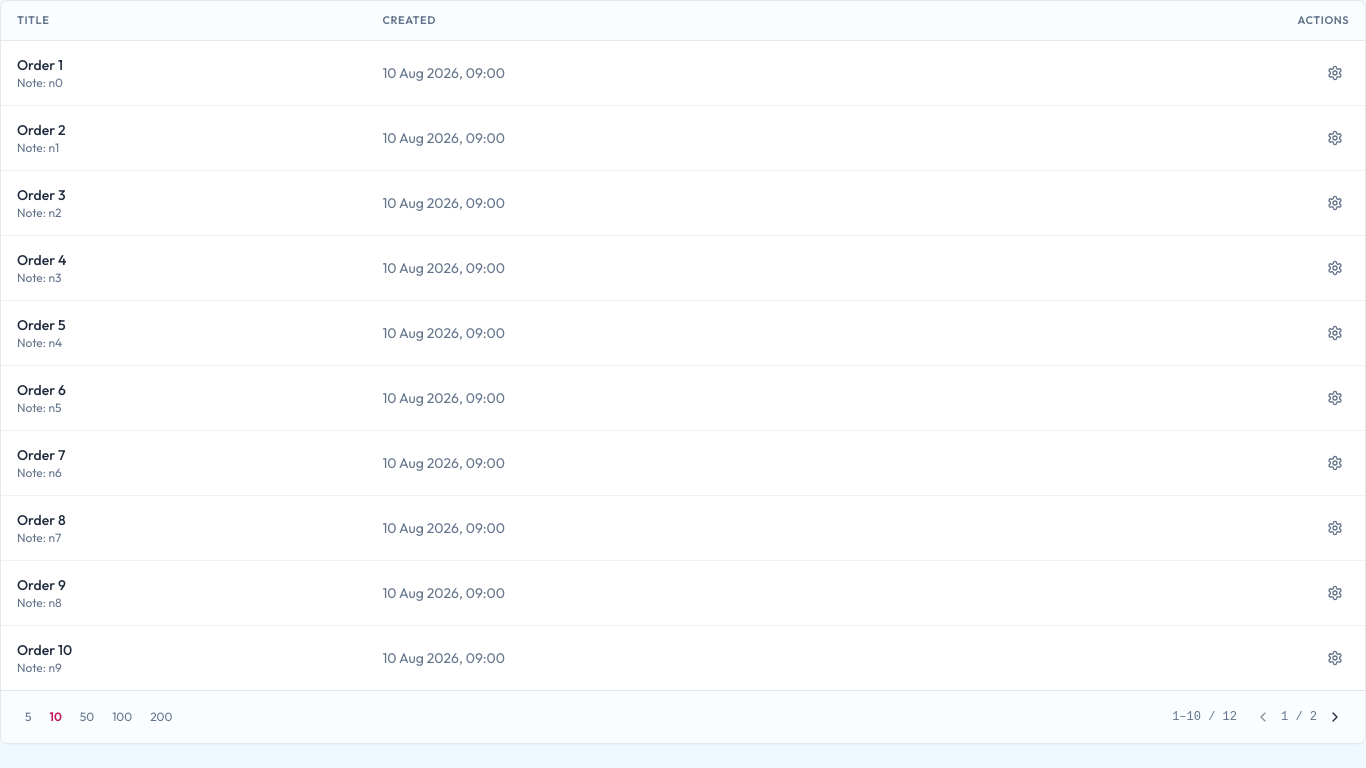
RecordList › renders compact rows with title, muted summary and pagination
The image size is (1366, 768).
Expected: the text "Order 1" is shown, 17,56 -> 63,74
Expected: the text "Note: n0" is shown, 17,75 -> 63,90
What coordinates should you click on to do the following:
click the button named "Next"
I would click on:
 (1335, 717)
Its box is 1321,703 -> 1349,731.
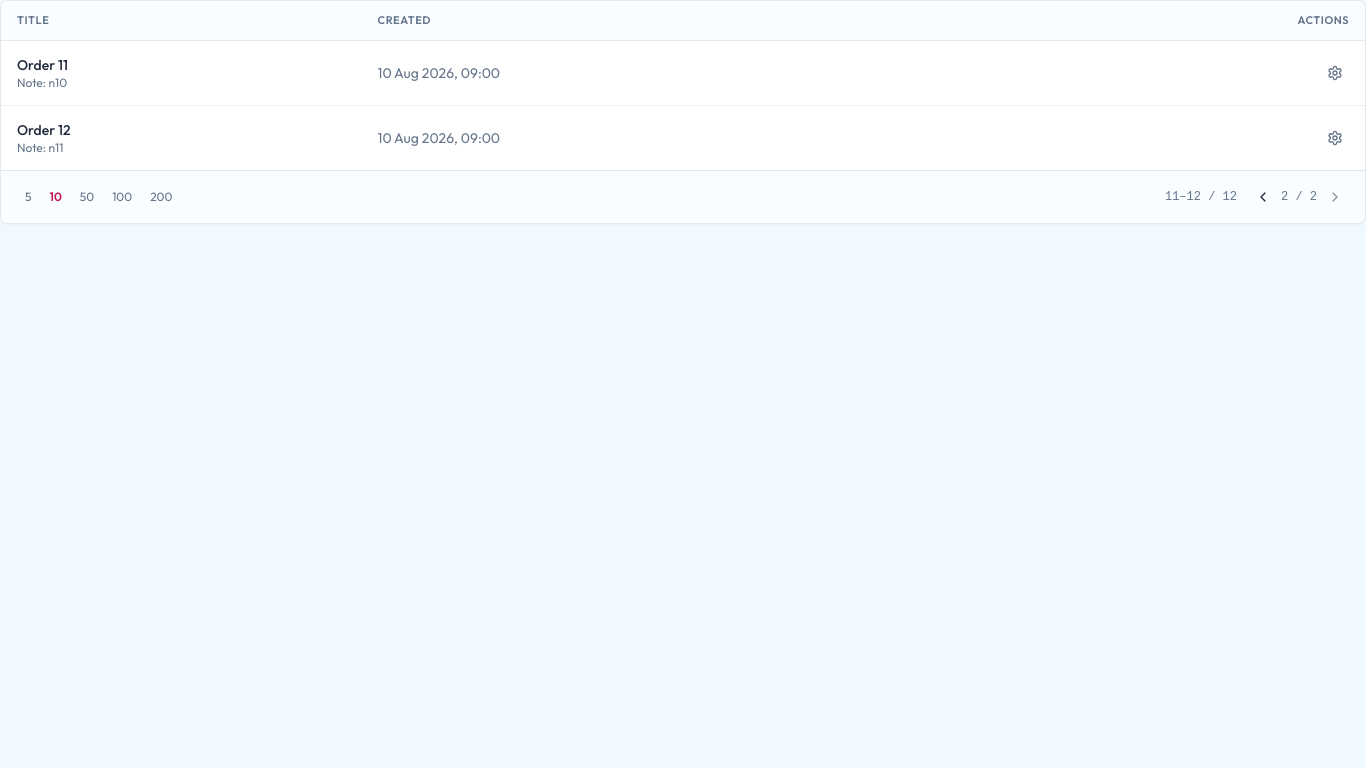
Now the text "Order 11" is shown, box 17,56 -> 68,74
